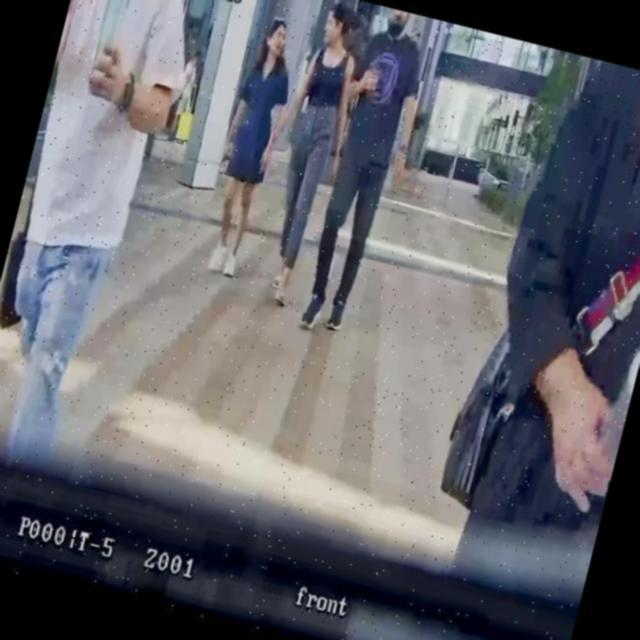person: (433, 47, 640, 546), (0, 0, 211, 436), (288, 2, 439, 342), (237, 0, 376, 312), (194, 12, 308, 282), (166, 45, 203, 144)
